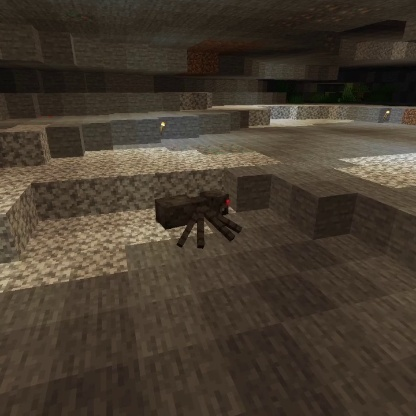spider: (151, 186, 246, 251)
